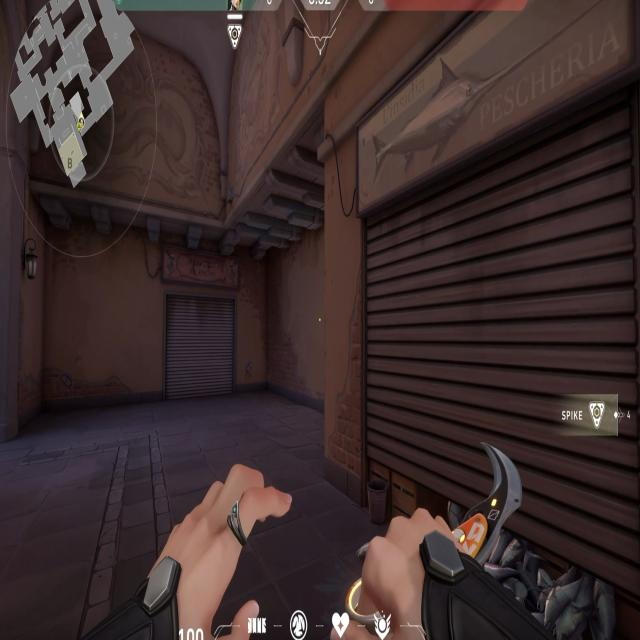B_Main_Corner: (301, 39, 635, 555)
